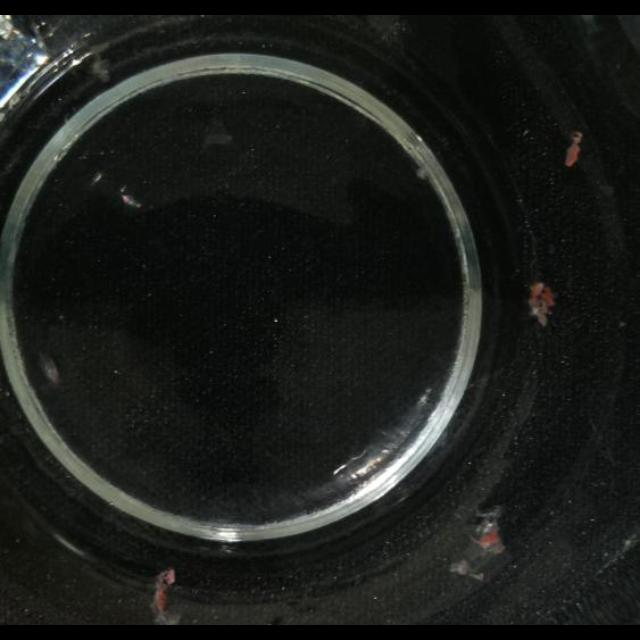Fragment: (452, 507, 508, 583), (150, 571, 178, 625), (527, 282, 555, 326), (38, 350, 62, 384), (564, 132, 582, 168)
